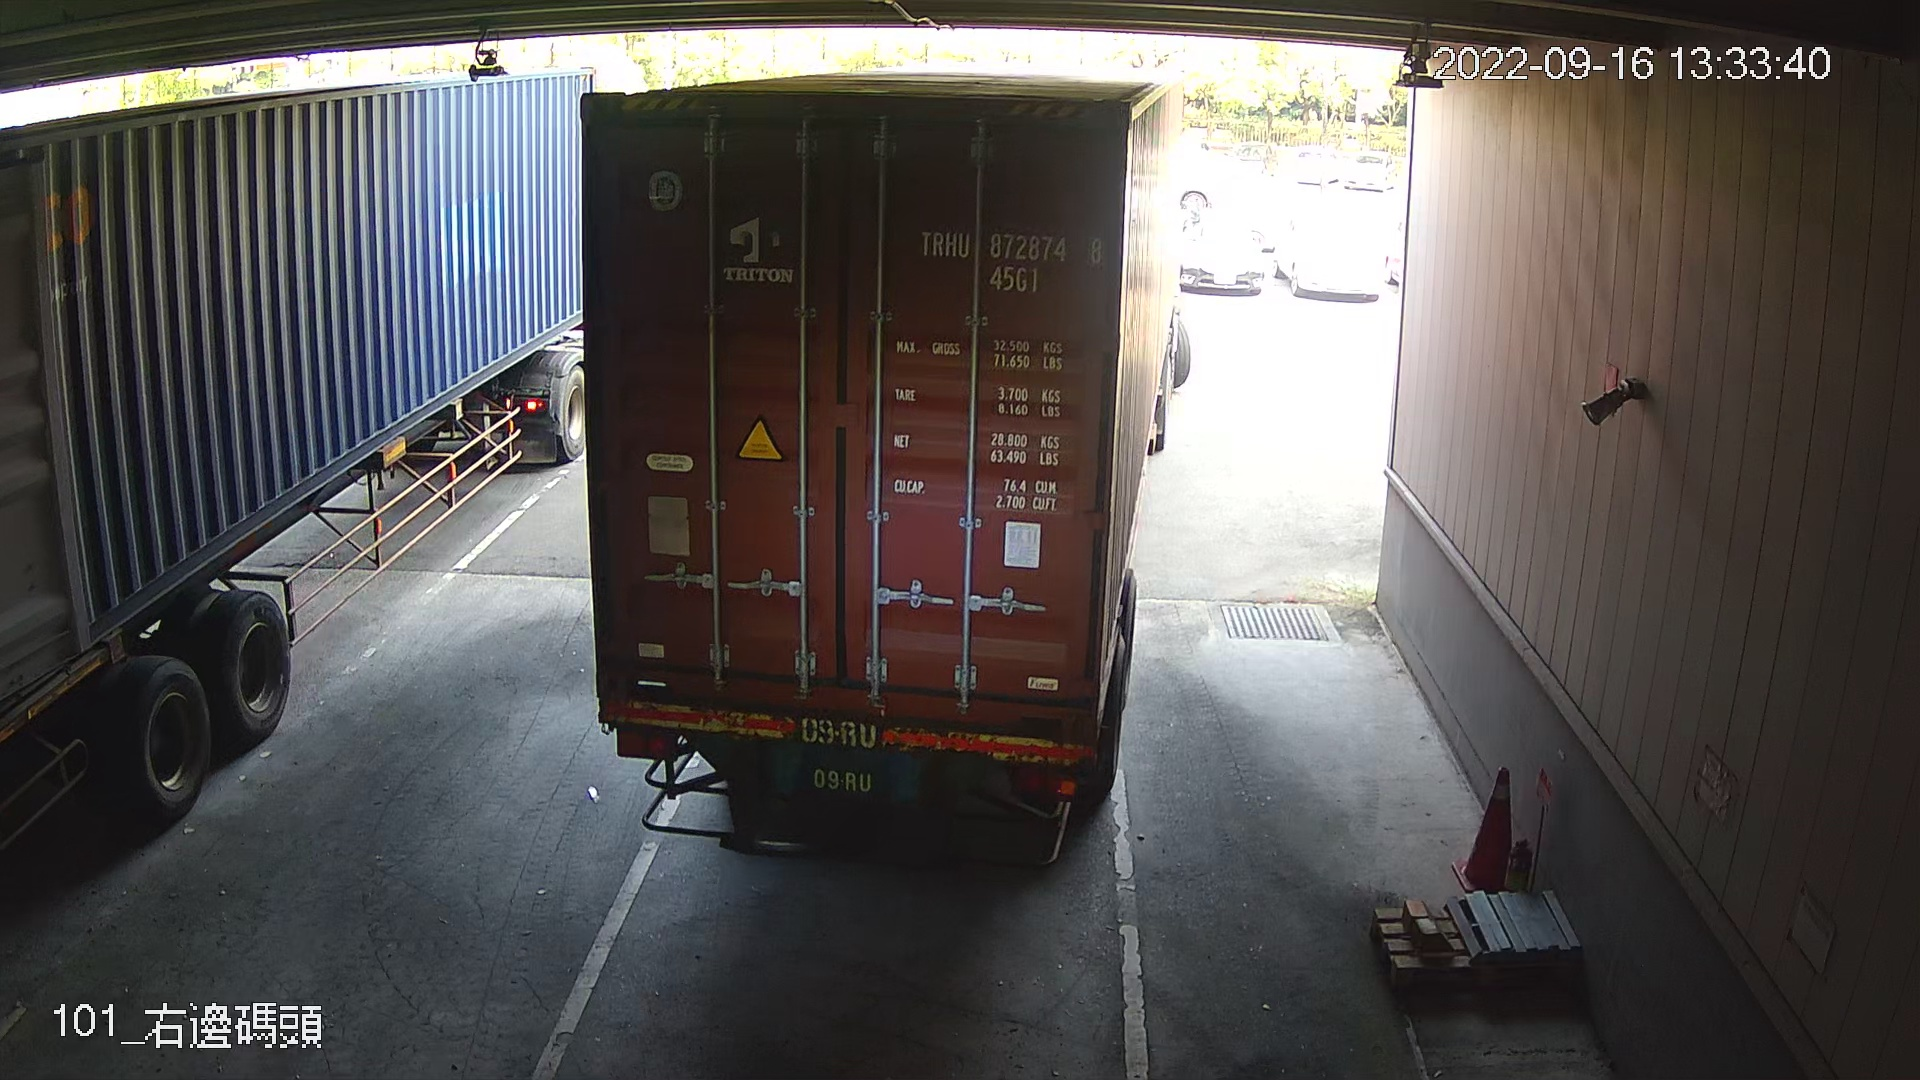container: (909, 215, 1109, 305)
